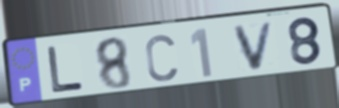1: (189, 26, 213, 79)
8: (93, 35, 134, 91), (286, 15, 325, 67)
C: (143, 32, 180, 84)
L: (45, 44, 86, 96)
V: (231, 19, 277, 72)
